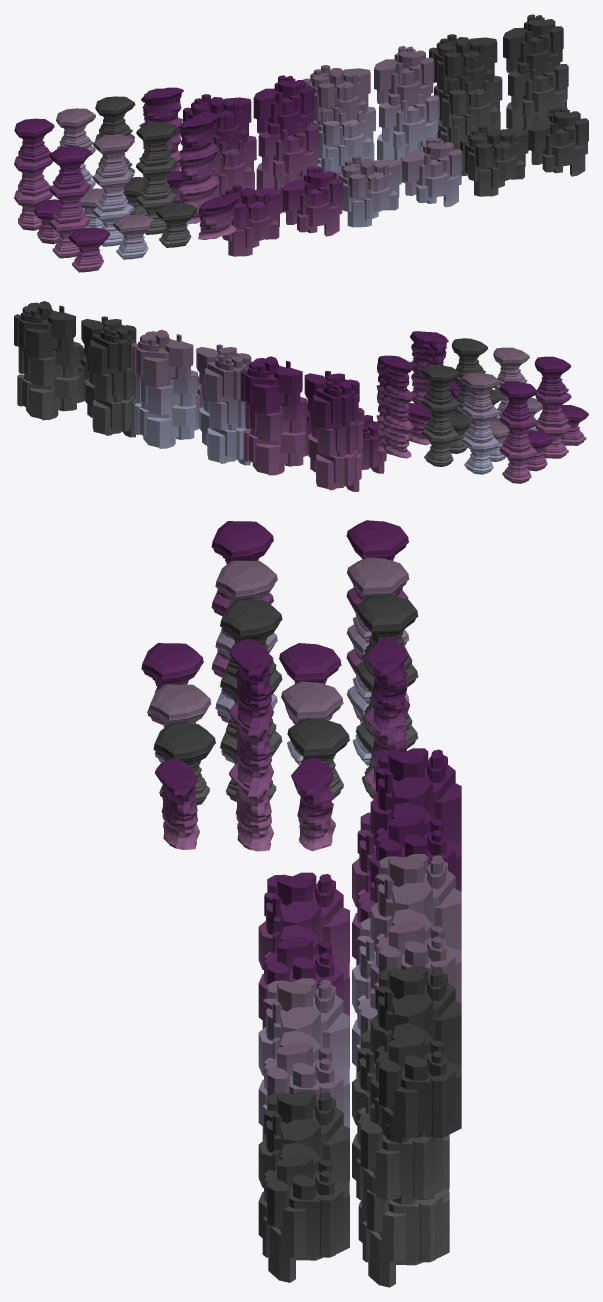
Rendered from EnvironmentRocks.fbx.
The picture shows the model from 3 angles, top to bottom: view 1: azimuth 30°, elevation 25°; view 2: azimuth 150°, elevation 25°; view 3: azimuth 270°, elevation 25°; orthographic projection. The views are drawn at different scales.
Visible parts, largest first — view 1: Line104, Line102, Line106, Line107, Line105, Line051, Line103, Line045, Line057, Line060, Line054, Line050 (+36 smaller); view 2: Line057, Line054, Line060, Line048, Line051, Line045, Line055, Line058, Line061, Line049, Line052, Line059 (+33 smaller); view 3: Line107, Line060, Line061, Line059, Line051, Line045, Line048, Line102, Line103, Line104, Line105, Line054 (+25 smaller).
Part boxes in pixels (bbox=[...]): Line104: bbox=[460, 125, 528, 196]; Line102: bbox=[333, 156, 401, 227]; Line106: bbox=[282, 166, 343, 236]; Line107: bbox=[528, 106, 588, 176]; Line105: bbox=[402, 137, 462, 207]; Line051: bbox=[429, 34, 497, 94]; Line103: bbox=[222, 185, 282, 256]; Line045: bbox=[303, 65, 370, 125]; Line057: bbox=[253, 75, 314, 135]; Line060: bbox=[503, 14, 563, 74]; Line054: bbox=[374, 46, 434, 105]; Line050: bbox=[434, 75, 502, 139]; Line057: bbox=[240, 356, 302, 414]; Line054: bbox=[131, 329, 193, 387]; Line060: bbox=[14, 301, 75, 359]; Line048: bbox=[304, 371, 359, 429]; Line051: bbox=[81, 316, 136, 374]; Line045: bbox=[196, 344, 251, 402]; Line055: bbox=[134, 402, 196, 448]; Line058: bbox=[243, 428, 305, 475]; Line061: bbox=[17, 373, 79, 420]; Line049: bbox=[307, 433, 362, 491]; Line052: bbox=[84, 379, 139, 437]; Line059: bbox=[18, 341, 80, 386]; Line107: bbox=[258, 1142, 349, 1282]; Line060: bbox=[370, 1023, 461, 1143]; Line061: bbox=[358, 1186, 449, 1287]; Line059: bbox=[352, 1092, 443, 1217]; Line051: bbox=[370, 966, 461, 1065]; Line045: bbox=[370, 854, 461, 951]; Line048: bbox=[370, 748, 461, 845]; Line102: bbox=[258, 978, 349, 1078]; Line103: bbox=[258, 872, 349, 973]; Line104: bbox=[258, 1090, 349, 1190]; Line105: bbox=[258, 1030, 349, 1140]; Line054: bbox=[370, 908, 461, 1008].
Size of the model in its own units: 10101 by 2712 by 2776.
Materials: 1 (1 with a texture image).
